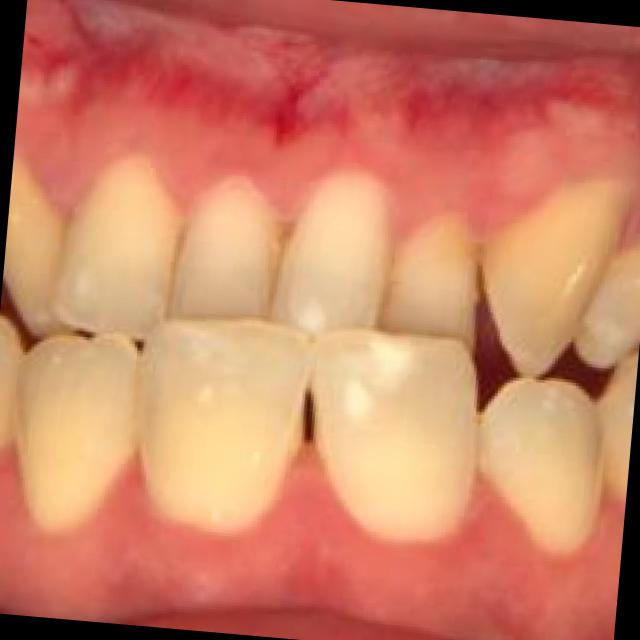karies: (454, 234, 505, 304)
